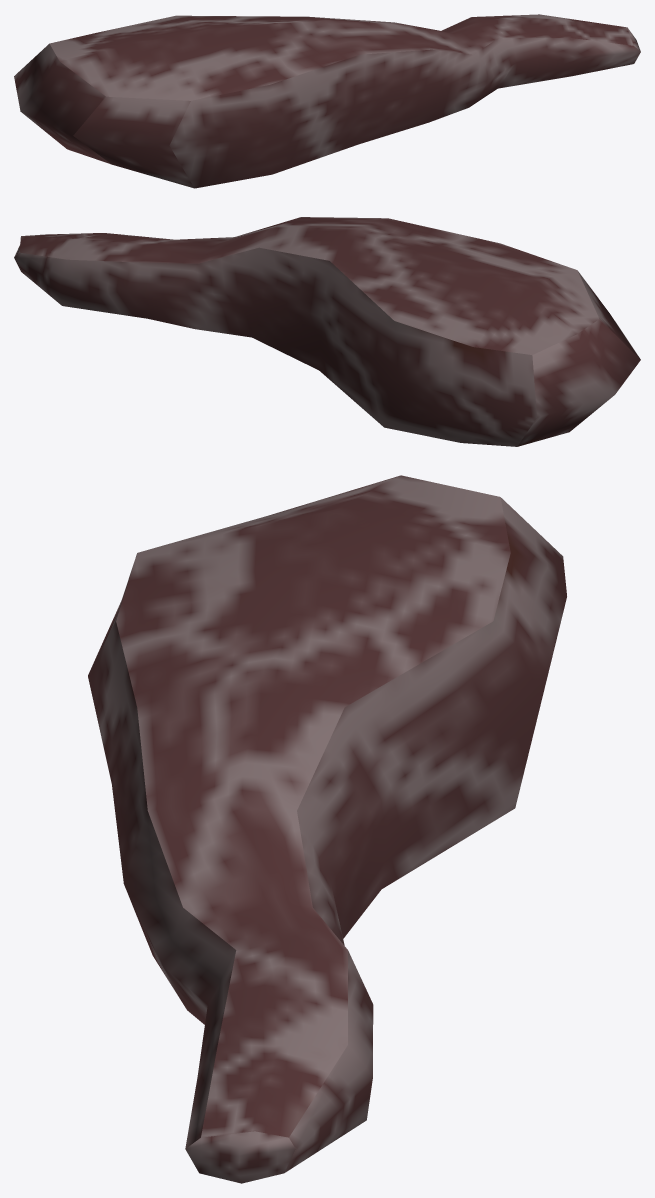
File: lambMeat.fbx
The picture shows the model from 3 angles, top to bottom: view 1: azimuth 30°, elevation 25°; view 2: azimuth 150°, elevation 25°; view 3: azimuth 270°, elevation 25°; orthographic projection. The views are drawn at different scales.
Visible parts, largest first — view 1: pCube69; view 2: pCube69; view 3: pCube69.
Boxes of the visible parts, box(x1,y1,x2,y2) form: pCube69: box(14, 14, 640, 188); pCube69: box(14, 217, 640, 446); pCube69: box(88, 475, 566, 1183).
Bounding box in the file's own units: 230 × 45.48 × 83.34.
